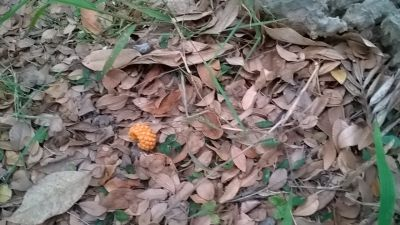eggs: (128, 123, 157, 152)
